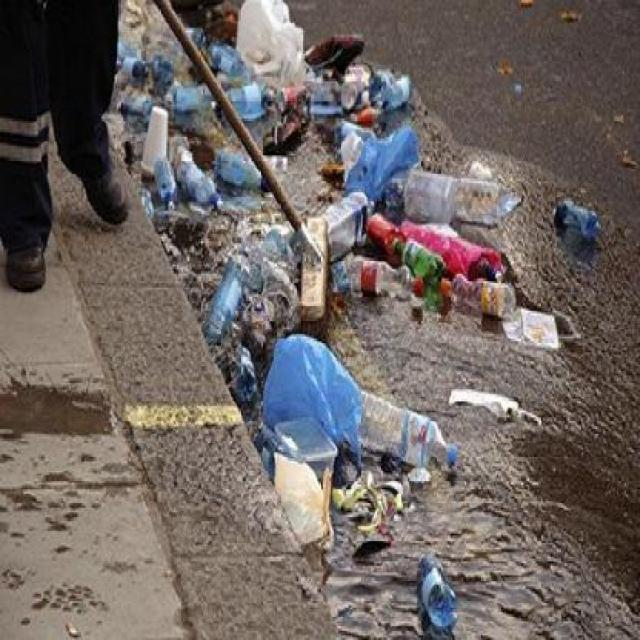garbage: (211, 265, 444, 534), (342, 97, 536, 346), (218, 8, 404, 177), (127, 77, 216, 210)
